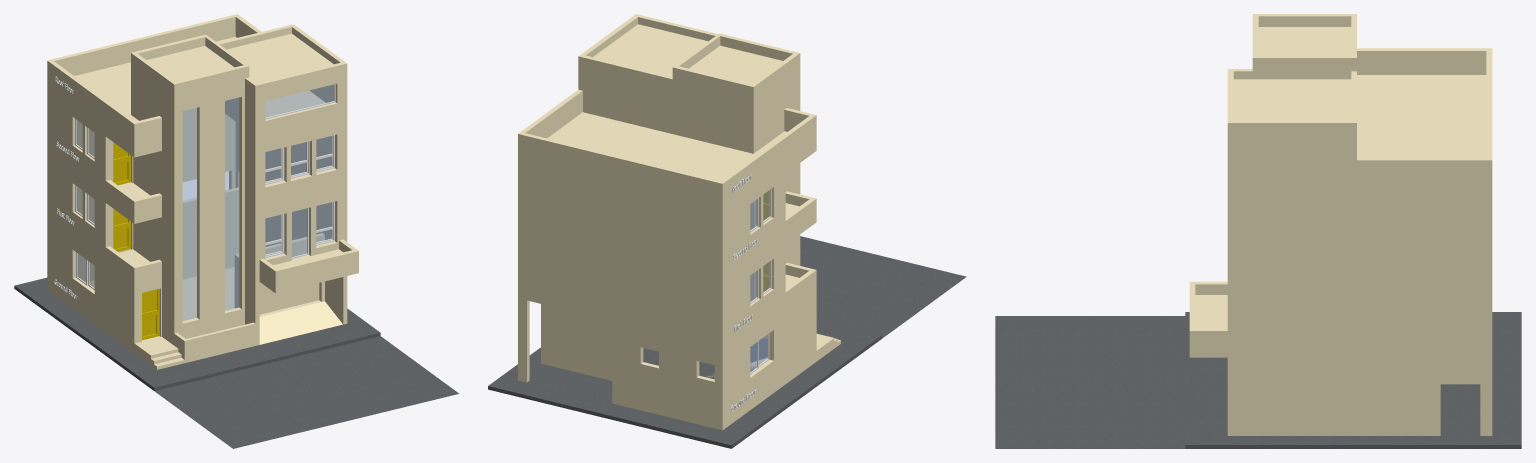
3 views of the same model, side by side, from view 1: azimuth 30°, elevation 25°; view 2: azimuth 150°, elevation 25°; view 3: azimuth 270°, elevation 25° (orthographic). The views are drawn at different scales.
Visible parts, largest first — view 1: 18554, 16870, 19359, 17685, 18243, 19257, Component#3 (×2), 18004, 19067, Component#2 (×3), 17173, 17183 (+11 smaller); view 2: 18554, 16870, 17685, 18243, 19257, 19359, 19067, 19077, 18209, 17616, 18242, 19473 (+1 smaller); view 3: 18554, 19359, 16870, 17685, 18243, 19257, 19067, 18004, 19077, 17616.
Part boxes in pixels (x1,y1,x2,y2): 18554: (47,14,347,146); 16870: (47,187,347,352); 19359: (154,336,458,448); 17685: (47,112,347,279); 18243: (47,81,347,212); 19257: (14,277,380,390); Component#3 (×2): (182,97,239,320); 18004: (259,239,358,293); 19067: (227,33,333,82); Component#2 (×3): (113,142,159,340); 17173: (259,301,342,344); 17183: (174,322,255,362); 18554: (518,14,816,205); 16870: (541,263,816,430); 17685: (518,191,800,348); 18243: (518,152,800,276); 19257: (488,319,881,448); 19359: (800,236,966,338); 19067: (593,24,707,76); 19077: (689,45,782,83); 18209: (785,191,816,244); 17616: (518,298,529,382); 18242: (785,262,816,301); 19473: (750,333,769,374); 18554: (1227,14,1492,184); 19359: (995,316,1185,448); 16870: (1227,344,1480,435); 17685: (1227,264,1492,343); 18243: (1227,184,1492,263); 19257: (1185,312,1521,448); 19067: (1233,79,1351,120); 18004: (1189,281,1227,357); 19077: (1258,27,1351,56); 17616: (1480,344,1492,435).
Size of the model in its own units: 10.7 by 12.4 by 17.91.
Materials: 1970 (7 with a texture image).
